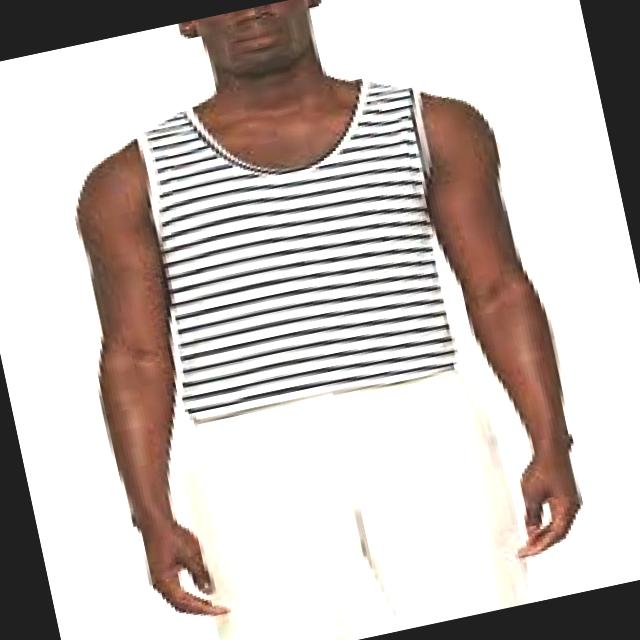no_vest: (120, 58, 478, 428)
